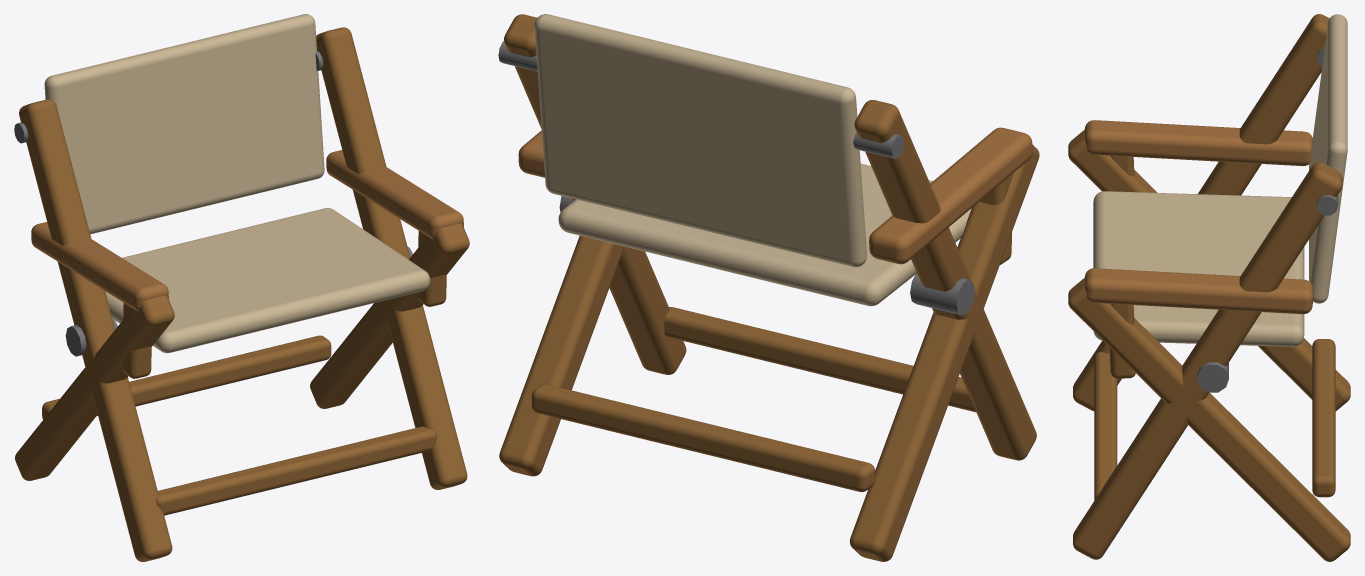
The model's file is camp-chair.glb.
3 renders of one model, left to right at view 1: azimuth 30°, elevation 25°; view 2: azimuth 150°, elevation 25°; view 3: azimuth 270°, elevation 25°, orthographic. The views are drawn at different scales.
Visible parts, largest first — view 1: camp-chair-farm-cloth, camp-chair-farm-wood-dark, camp-chair-farm-wood, camp-chair-farm-metal; view 2: camp-chair-farm-cloth, camp-chair-farm-wood-dark, camp-chair-farm-wood, camp-chair-farm-metal; view 3: camp-chair-farm-wood-dark, camp-chair-farm-cloth, camp-chair-farm-wood, camp-chair-farm-metal.
Boxes of the visible parts, <box> form: camp-chair-farm-cloth: <box>44,14,430,353</box>; camp-chair-farm-wood-dark: <box>15,27,469,561</box>; camp-chair-farm-wood: <box>31,150,463,310</box>; camp-chair-farm-metal: <box>14,51,412,356</box>; camp-chair-farm-cloth: <box>534,14,971,306</box>; camp-chair-farm-wood-dark: <box>499,14,1039,561</box>; camp-chair-farm-wood: <box>518,127,1032,264</box>; camp-chair-farm-metal: <box>498,41,974,315</box>; camp-chair-farm-wood-dark: <box>1068,14,1350,561</box>; camp-chair-farm-cloth: <box>1093,14,1347,346</box>; camp-chair-farm-wood: <box>1084,120,1313,314</box>; camp-chair-farm-metal: <box>1197,47,1338,392</box>.
Size of the model in its own units: 1.11 by 1.25 by 0.7903.
